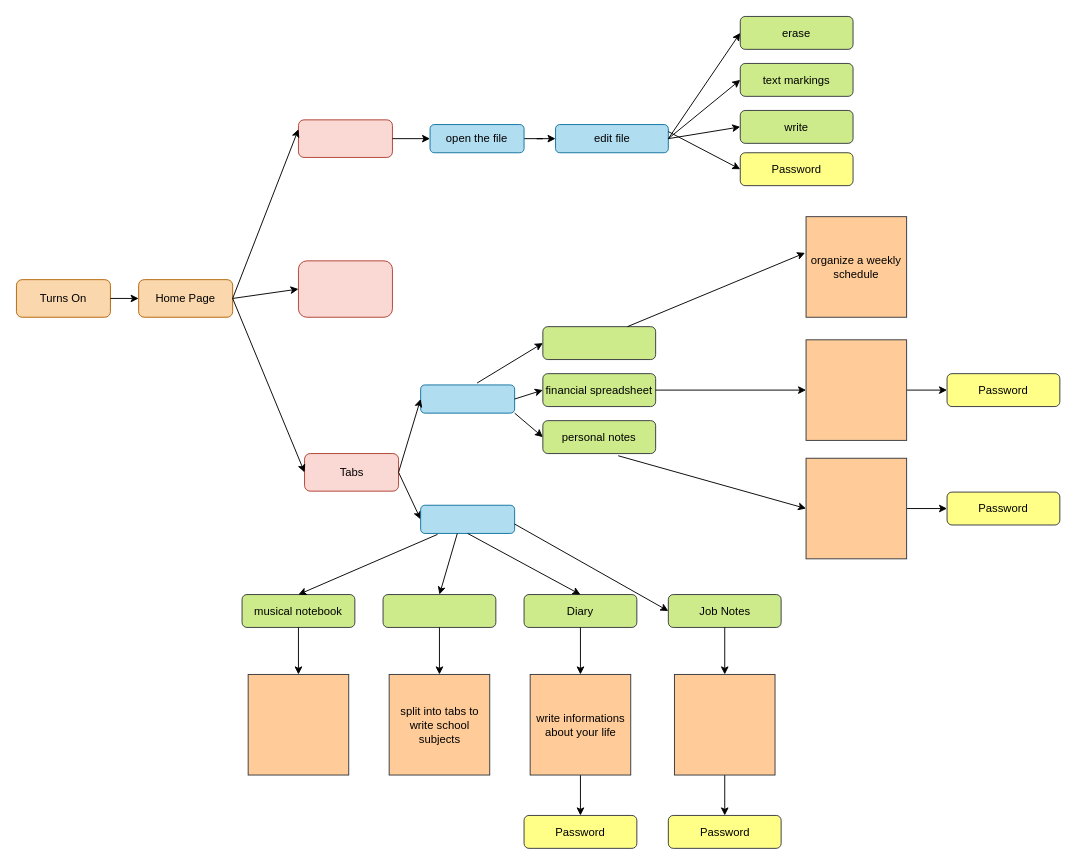
Some shapes in this 1076 by 865 pixel diagram are drawn without their labels. Each missing label, with the centre of its shape:
calculate monthly expenses: (x=856, y=389)
Last accessed file: (x=345, y=138)
list of other previously accessed articles: (x=345, y=288)
note book: (x=467, y=518)
schedule: (x=467, y=398)
school/college book: (x=439, y=610)
to write and rehearse musical notes: (x=298, y=724)
weekly schedule: (x=599, y=343)
work notes, separated by date: (x=724, y=724)
write short notes as sticky notes: (x=856, y=508)
